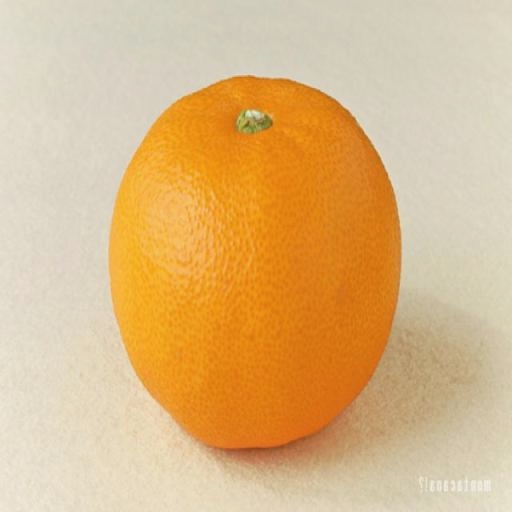fruit: (109, 77, 399, 447)
